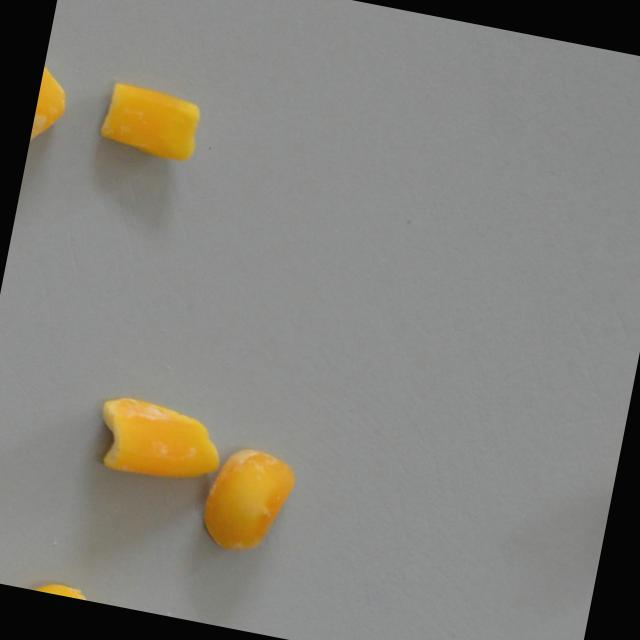dañado: (190, 434, 302, 564)
pelicula: (94, 74, 208, 168), (27, 58, 79, 155), (6, 569, 113, 605)
punto_negro: (88, 391, 231, 493)
